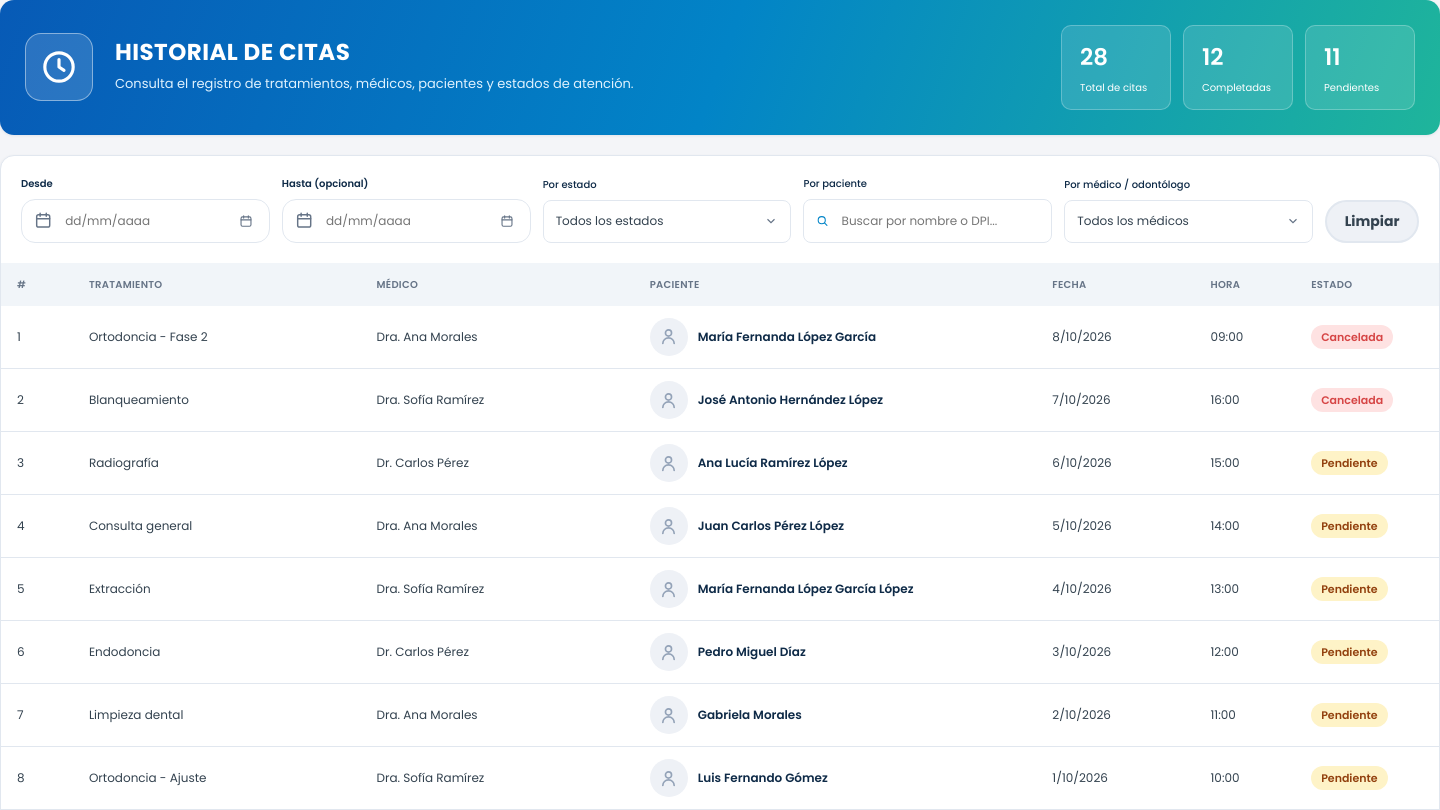
Test case: cierra el calendario con Enter tras escribir una fecha válida en Hasta (opcional)
Click the button named "Seleccionar fecha de Hasta (opcional)" at coordinates (473, 220), box [416,200,530,242]
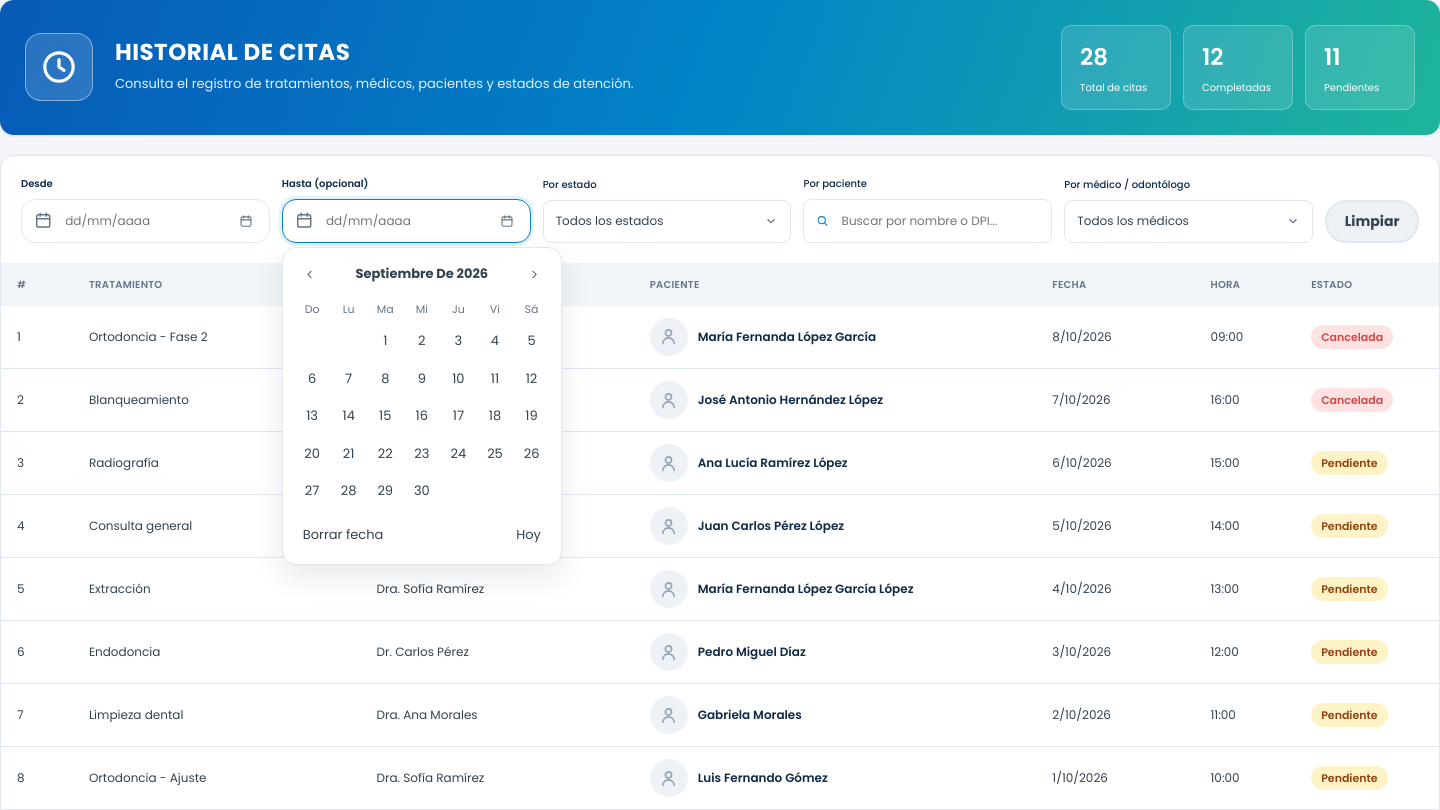
Type keys "31082026{Enter}"
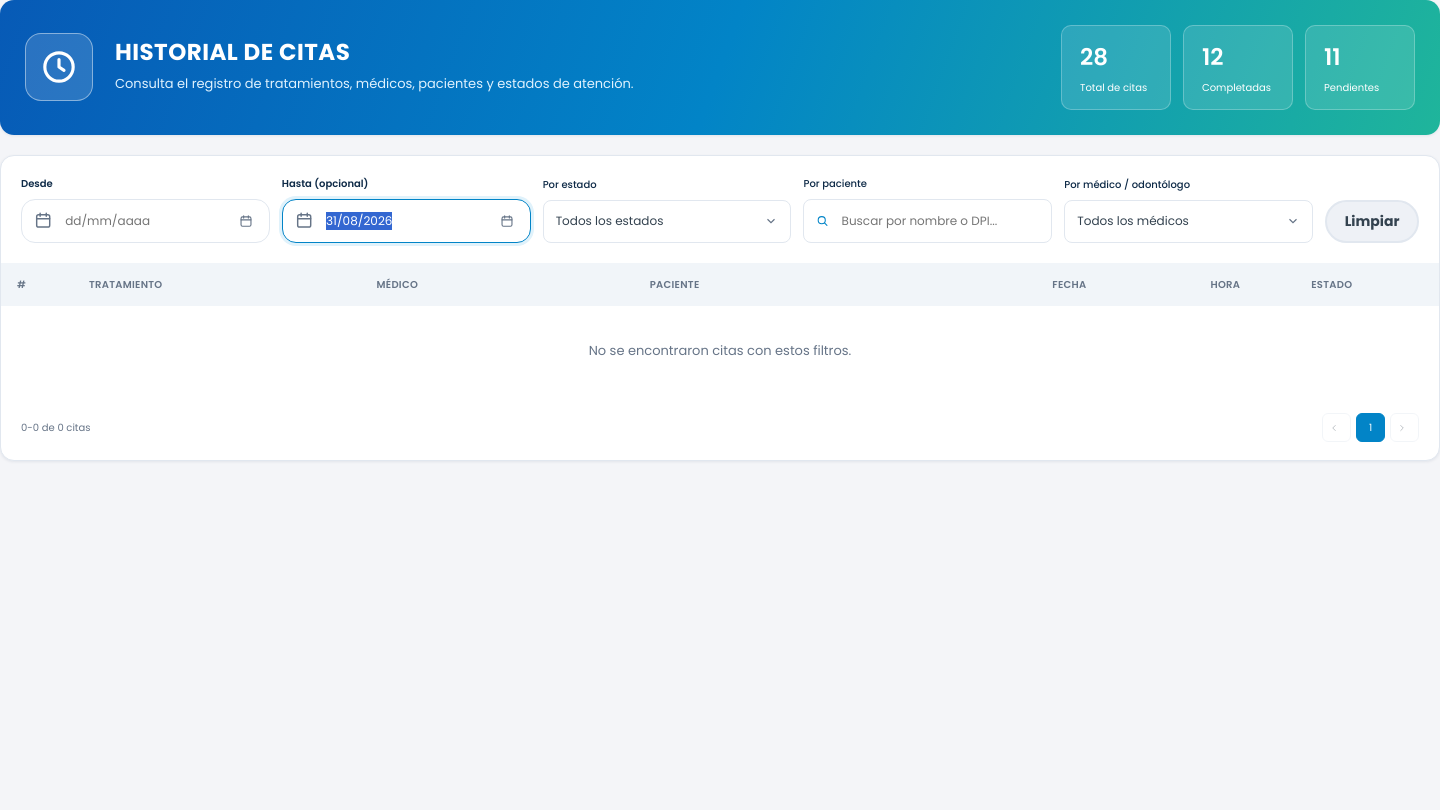
Expected: the field labelled "Hasta (opcional)" holds "31/08/2026", [326,200,416,242]
